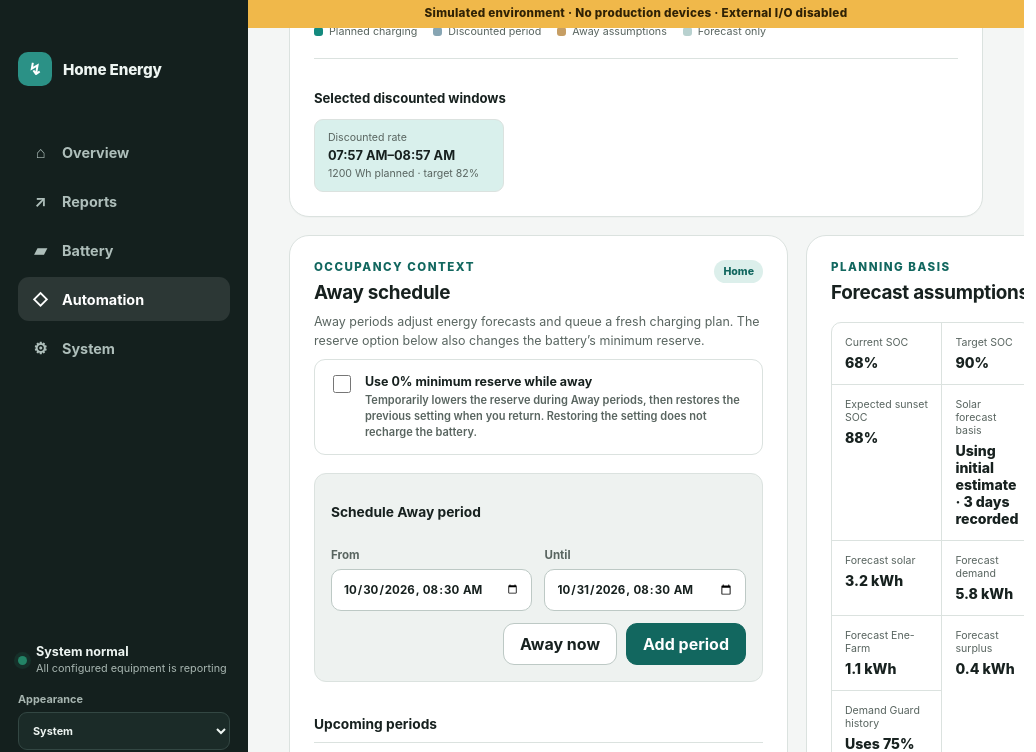
Test case: React application shell › keeps a failed preference save visible after refreshing its current state
(page scrolled)
Click the checkbox labelled "Use 0% minimum reserve while away": (342, 384) x1=333 y1=375 x2=351 y2=393
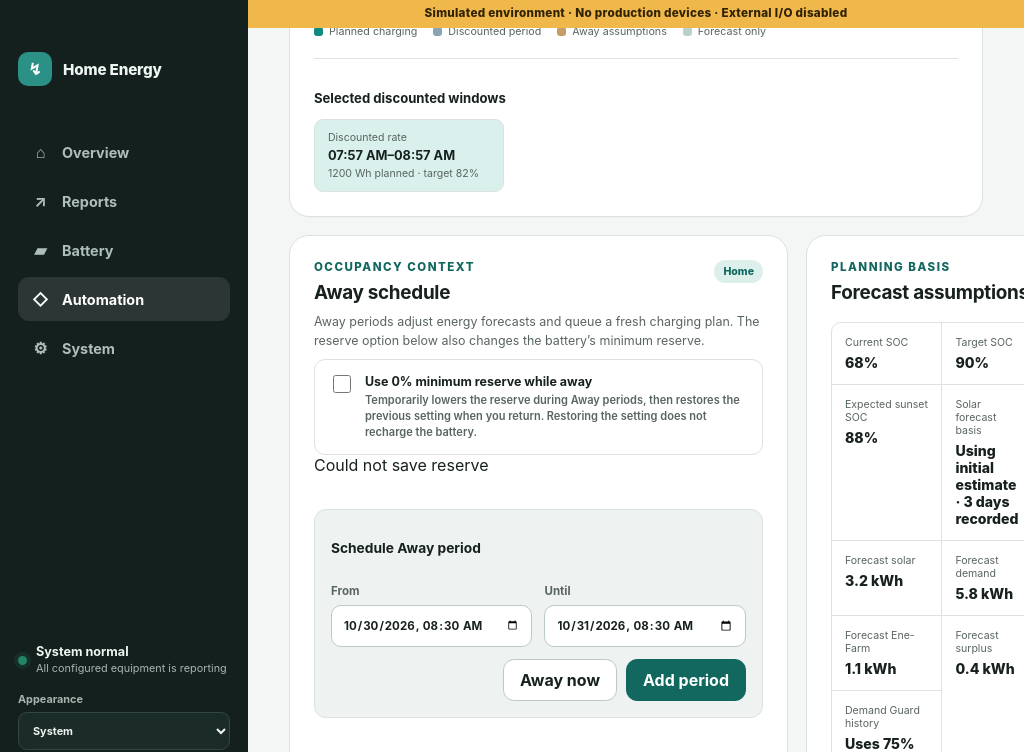
Check: the text "Could not save reserve" is shown, box x1=314 y1=456 x2=488 y2=476
